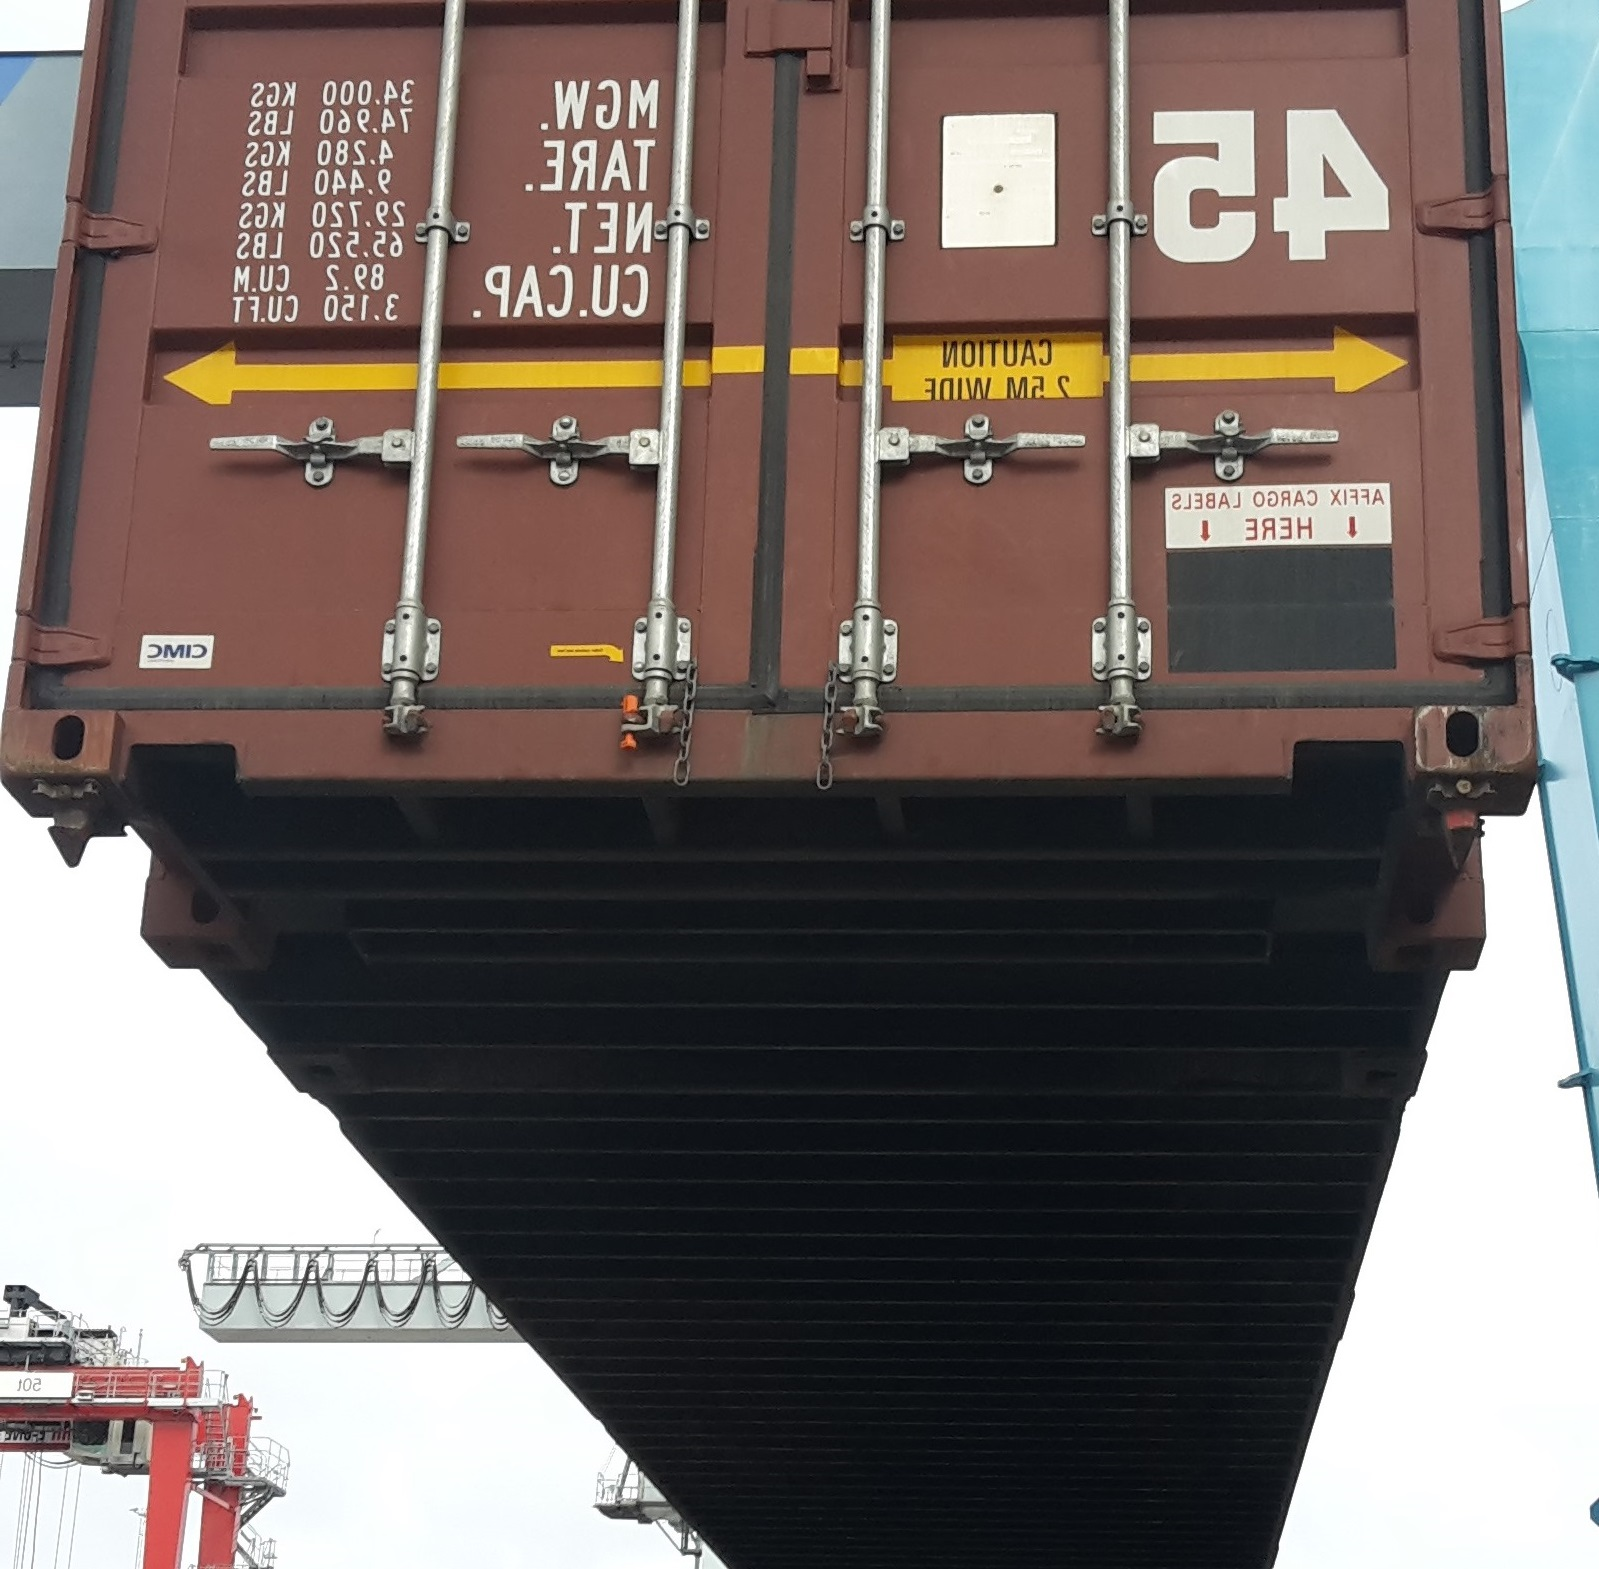container_door: (7, 1, 1542, 773)
